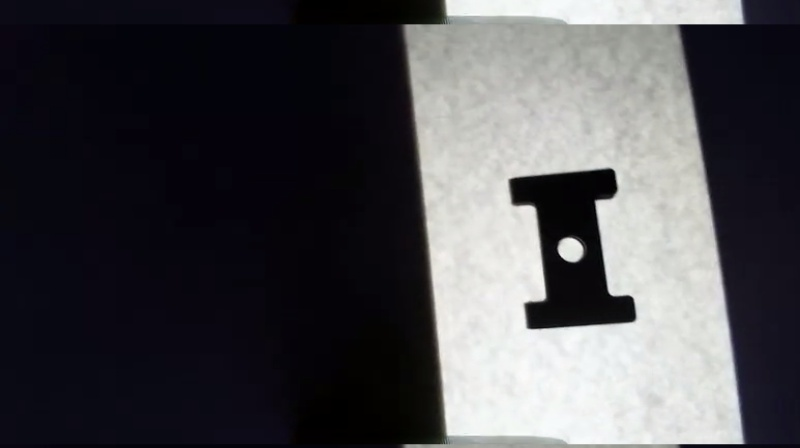O002: (501, 165, 643, 333)
